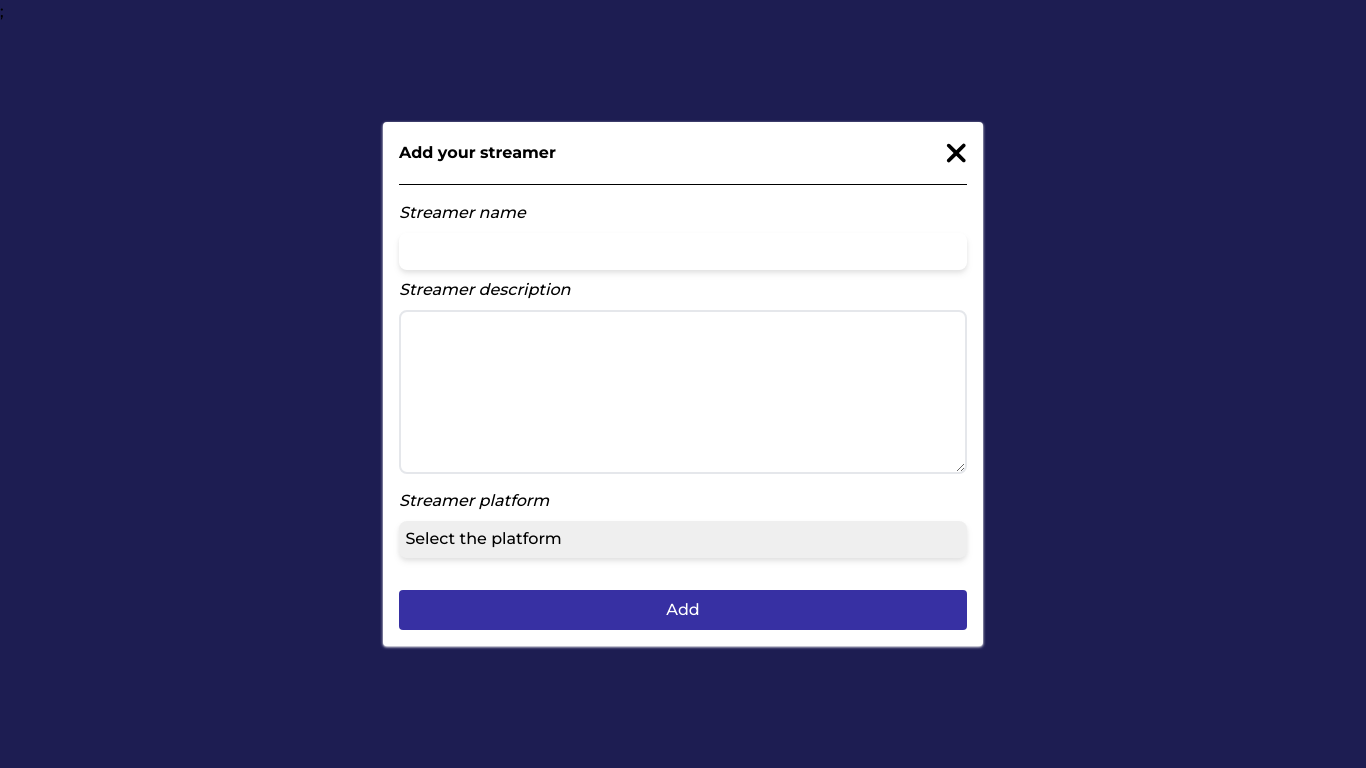
Test: new-streamer › streamer-name › check if input field was focused and than if the focus was removed and got an error
Type "Pa" into the field named "streamer-name". click: coordinates (683, 252)
box: x1=399 y1=233 x2=967 y2=270
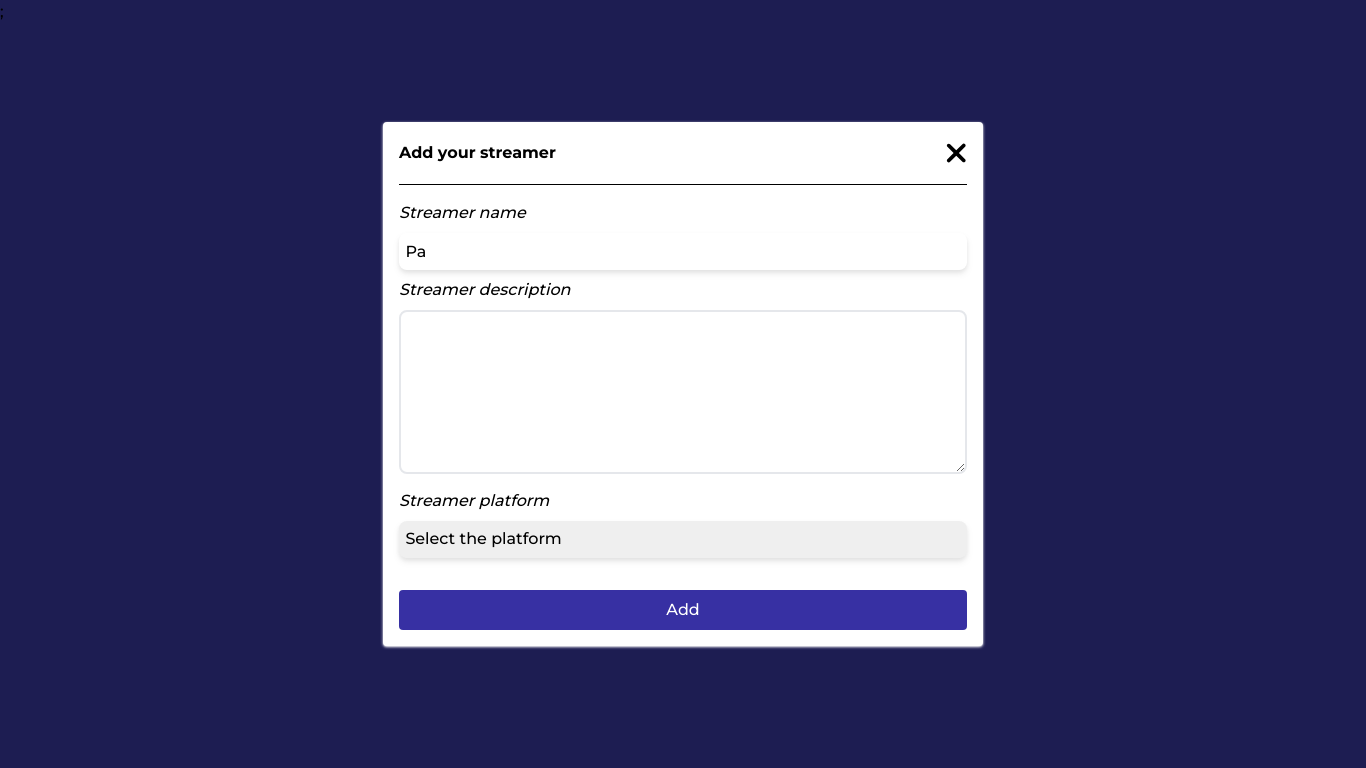
Leave the field named "streamer-name", box x1=399 y1=233 x2=967 y2=270
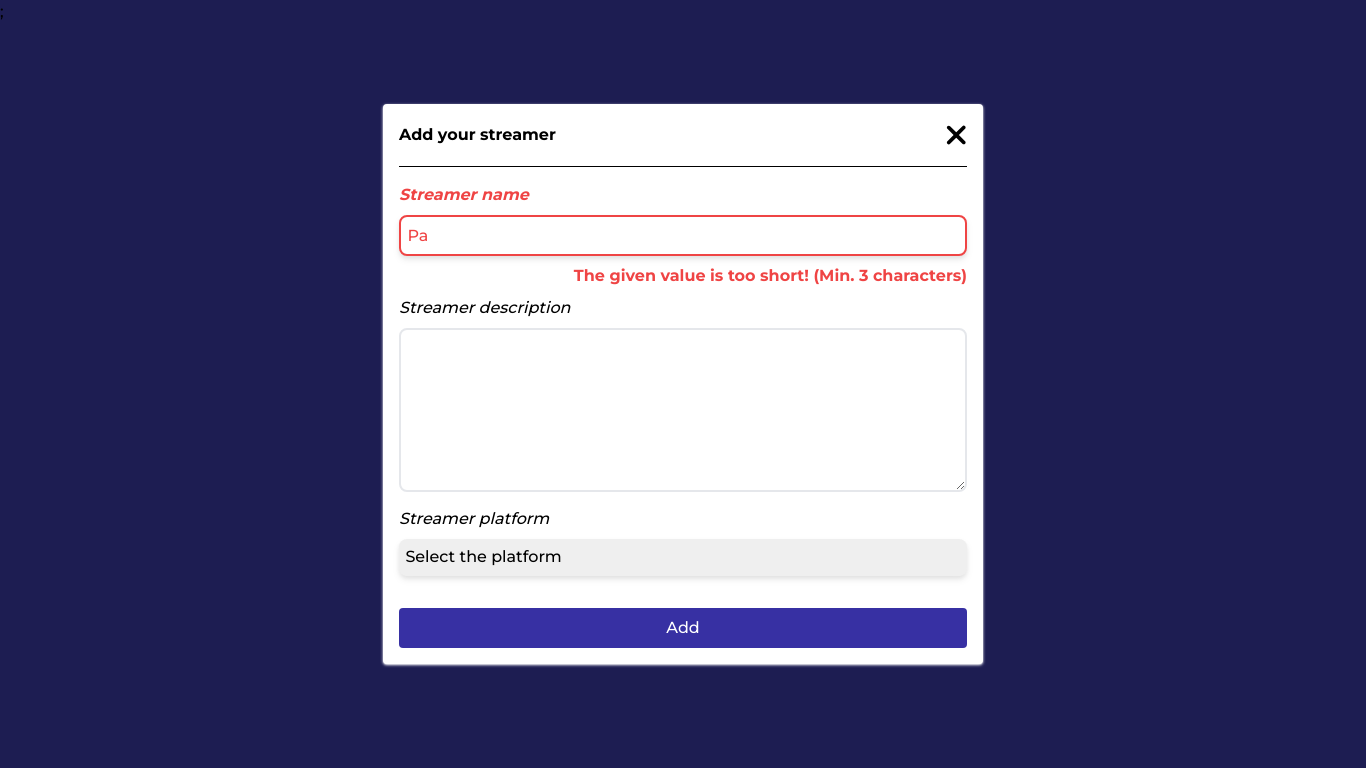
Check: the text "The given value is too short! (Min. 3 characters)" is shown, box x1=574 y1=264 x2=967 y2=288
